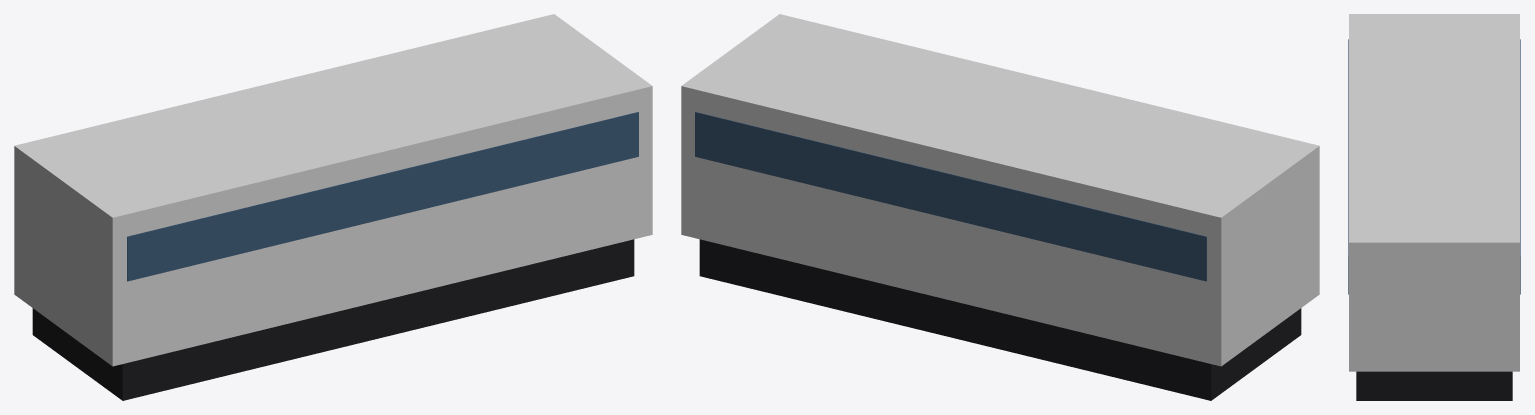
File: coach_1995.glb
The picture shows the model from 3 angles, left to right: view 1: azimuth 30°, elevation 25°; view 2: azimuth 150°, elevation 25°; view 3: azimuth 270°, elevation 25°; orthographic projection. The views are drawn at different scales.
Visible parts, largest first — view 1: Body, Windows, Chassis; view 2: Body, Windows, Chassis; view 3: Body, Chassis, Windows.
Part boxes in pixels (<box>): Body: <box>14,14,652,366</box>; Windows: <box>127,112,638,281</box>; Chassis: <box>32,239,634,400</box>; Body: <box>681,14,1319,366</box>; Windows: <box>695,112,1206,281</box>; Chassis: <box>699,239,1301,400</box>; Body: <box>1349,14,1519,371</box>; Chassis: <box>1356,371,1512,400</box>; Windows: <box>1348,39,1520,294</box>.
Bounding box in the file's own units: 0.76 × 0.255 × 0.242.
